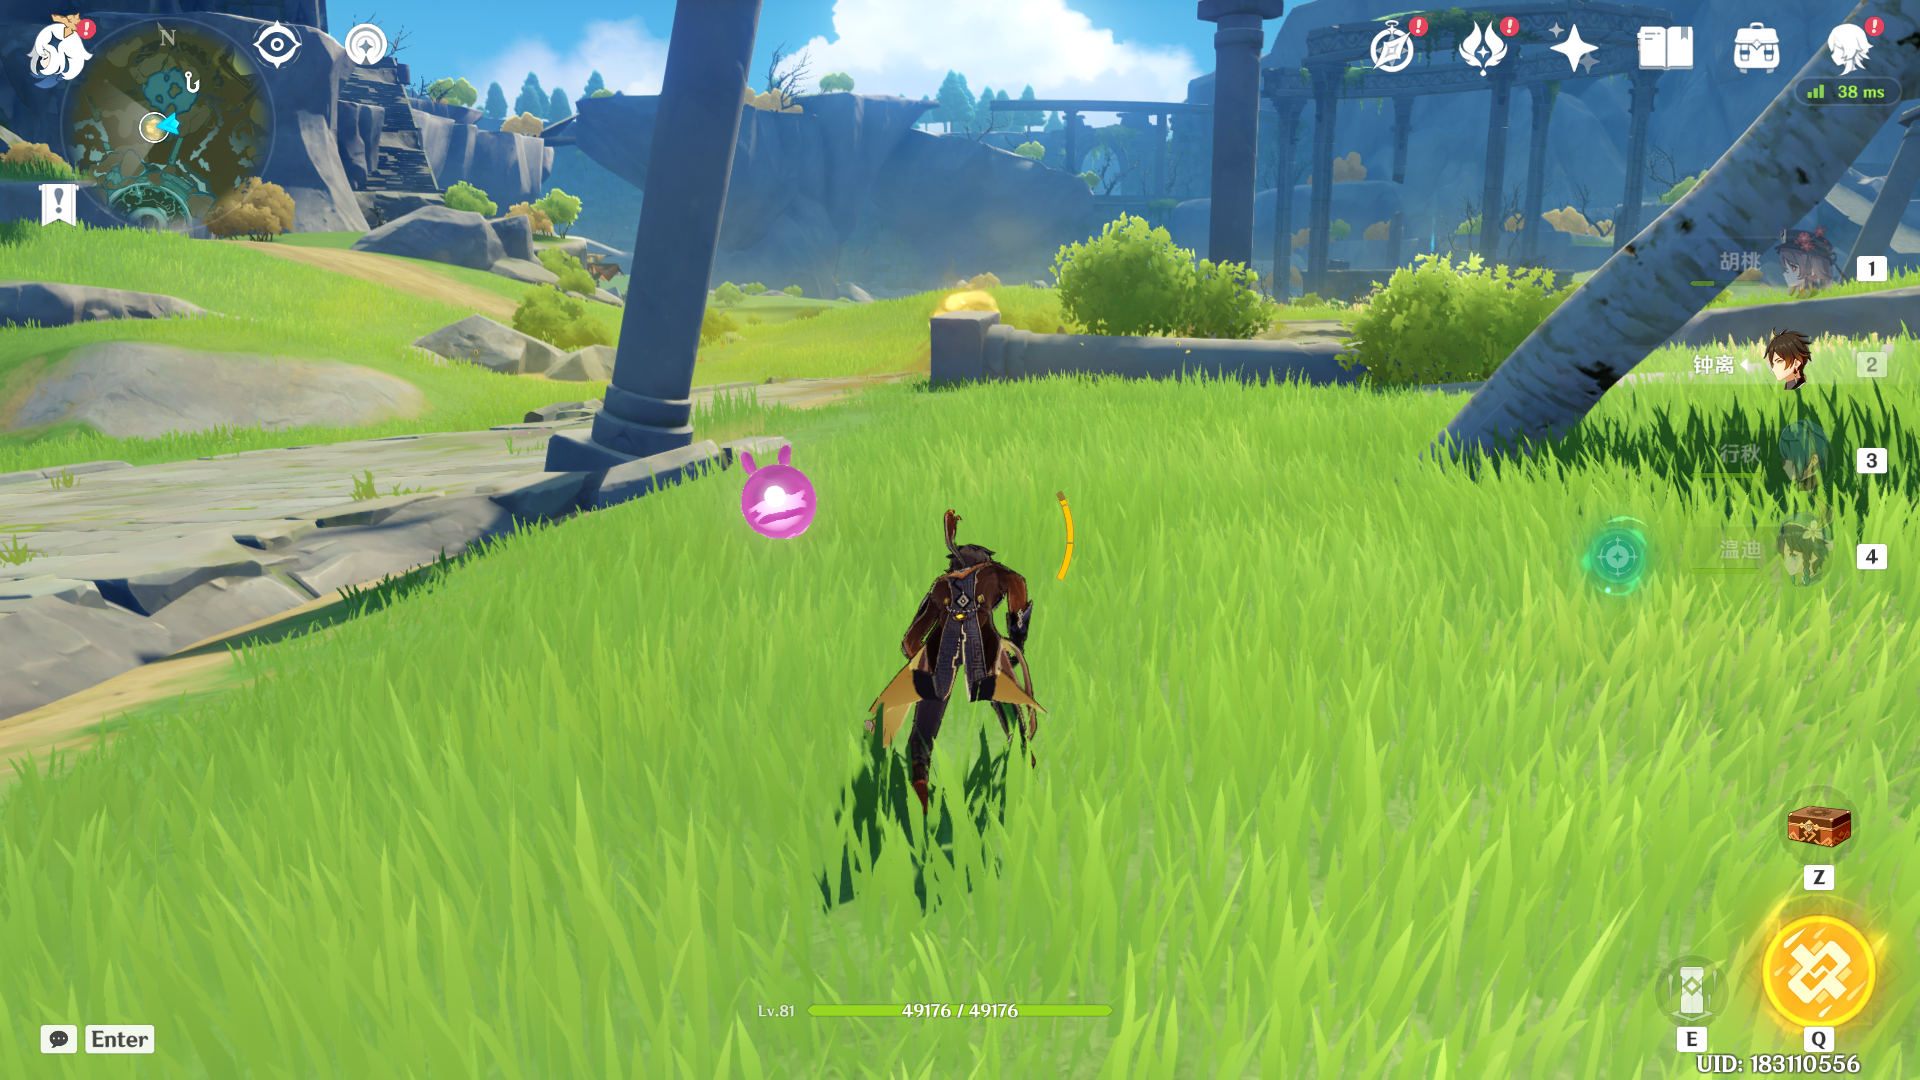character: (845, 435, 1112, 845)
